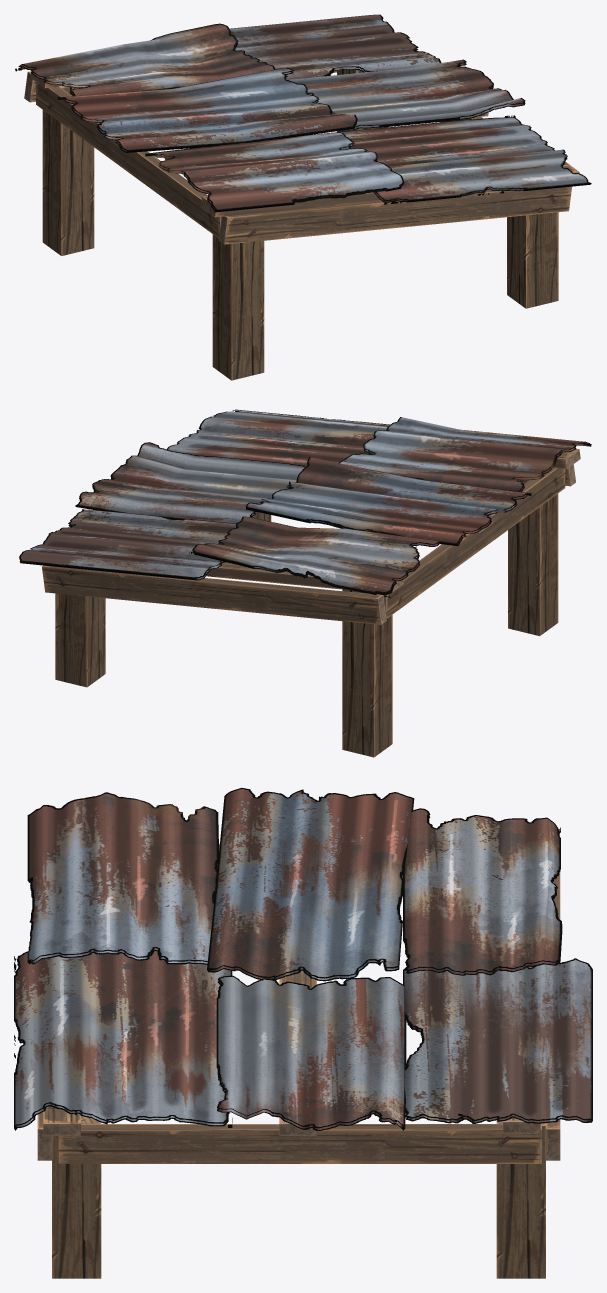
File: tower_top_C.FBX
3 renders of one model, top to bottom at view 1: azimuth 30°, elevation 25°; view 2: azimuth 150°, elevation 25°; view 3: azimuth 270°, elevation 25°, orthographic. The views are drawn at different scales.
Visible parts, largest first — view 1: tower_top_C_roof, tower_top_C; view 2: tower_top_C_roof, tower_top_C; view 3: tower_top_C_roof, tower_top_C.
Part boxes in pixels (left/top/right/bottom): tower_top_C_roof: left=15, top=14, right=591, bottom=212; tower_top_C: left=24, top=69, right=579, bottom=380; tower_top_C_roof: left=19, top=409, right=591, bottom=597; tower_top_C: left=42, top=449, right=580, bottom=757; tower_top_C_roof: left=14, top=787, right=592, bottom=1130; tower_top_C: left=37, top=843, right=560, bottom=1278.
Size of the model in its own units: 377 by 175 by 351.
